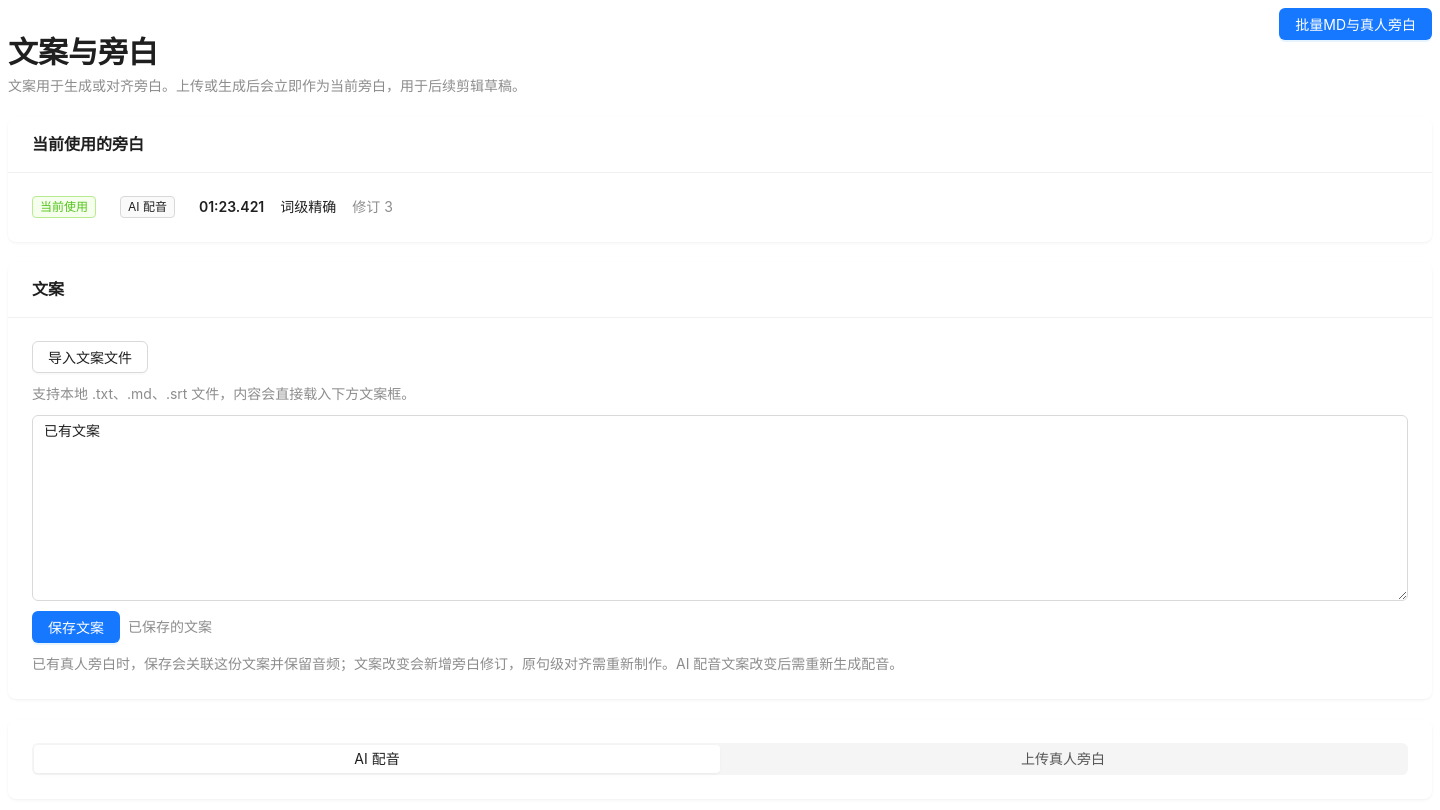
it: NarrationPage › loads saved text and explicitly saves edits with narration association
Replace the text in the text box named "旁白文案" with "新的真人旁白文案" at (720, 508), box [32,415,1408,601]
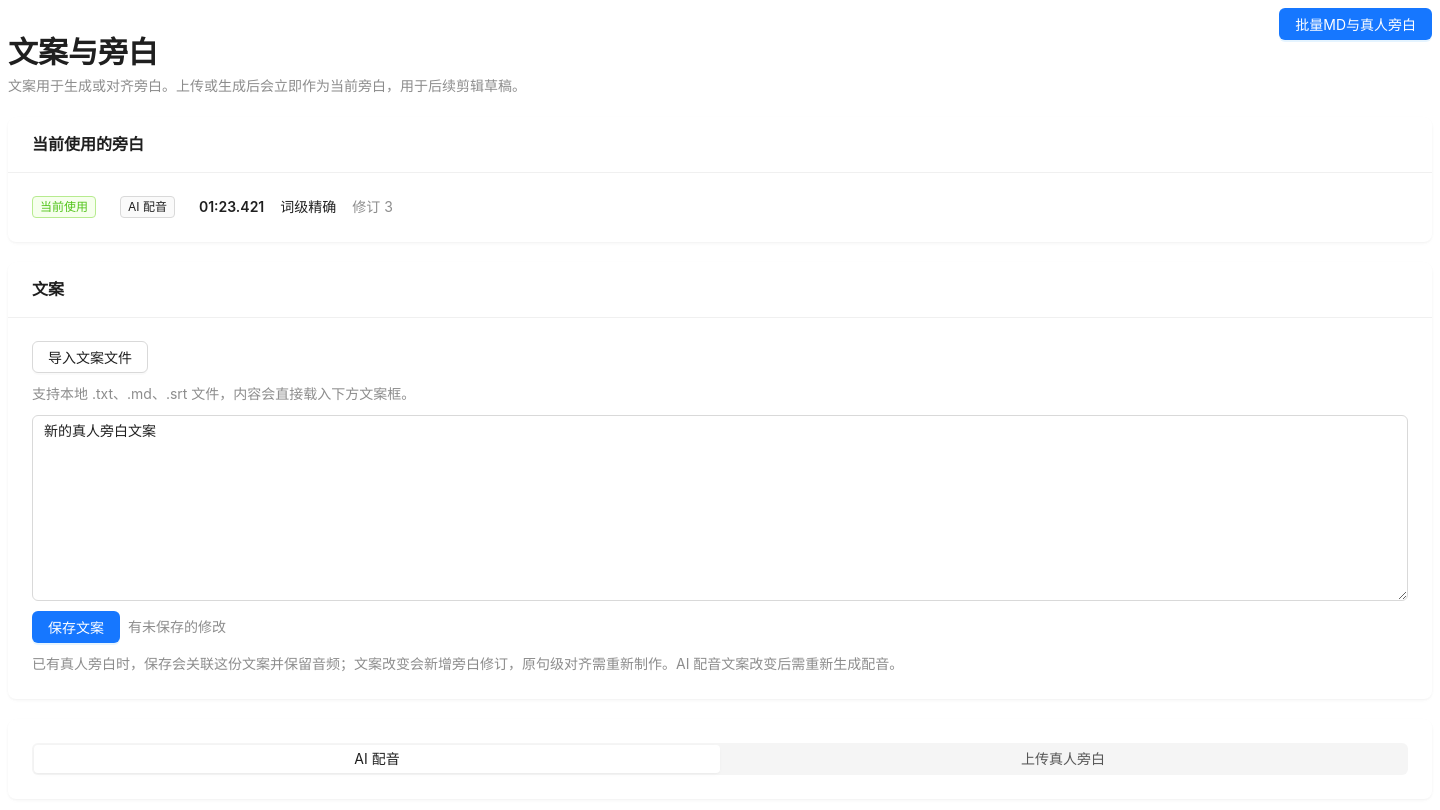
Click the button "保存文案" at (76, 627), box [32,611,120,643]
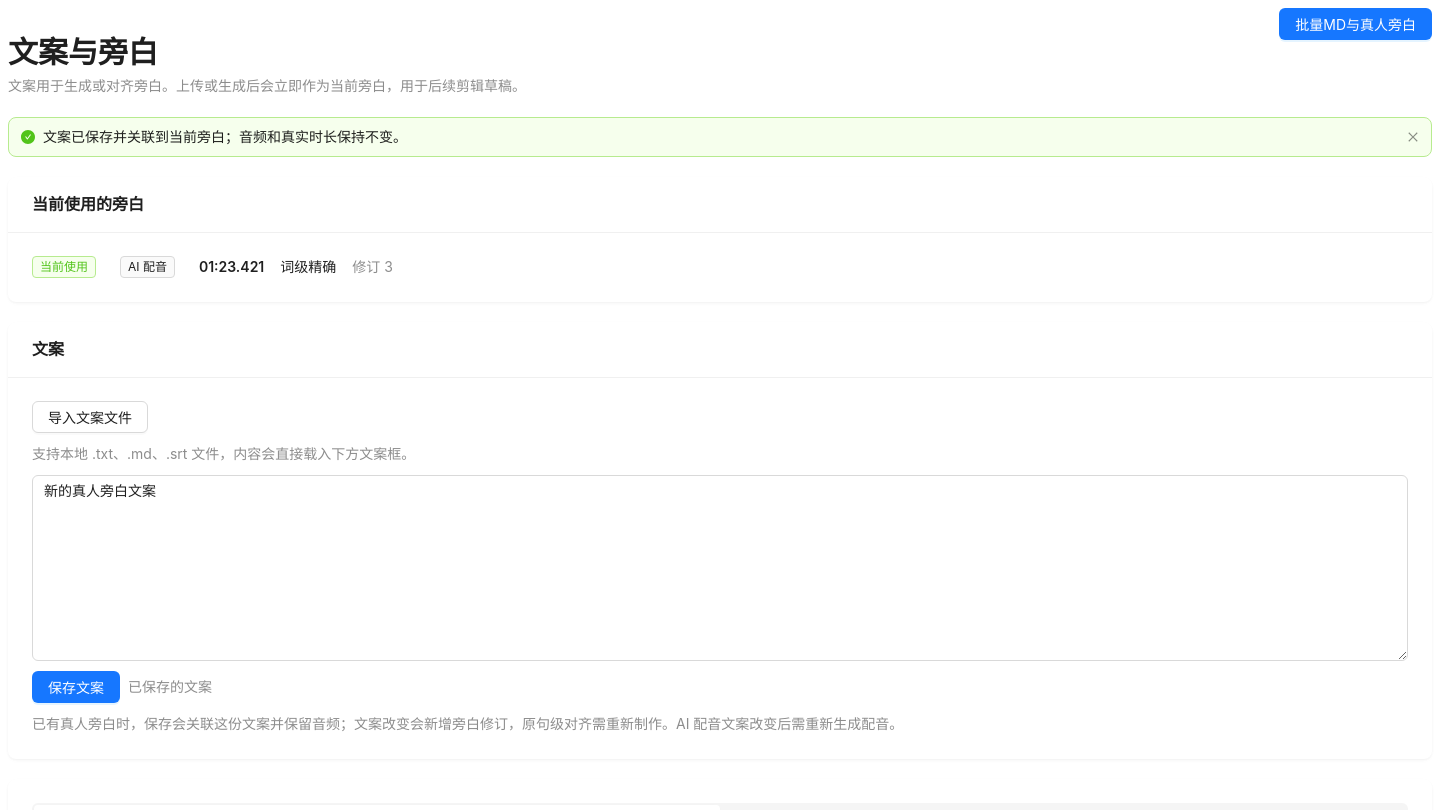
expect the text "文案已保存并关联到当前旁白；音频和真实时长保持不变。" is shown: met, box [43,128,407,145]
